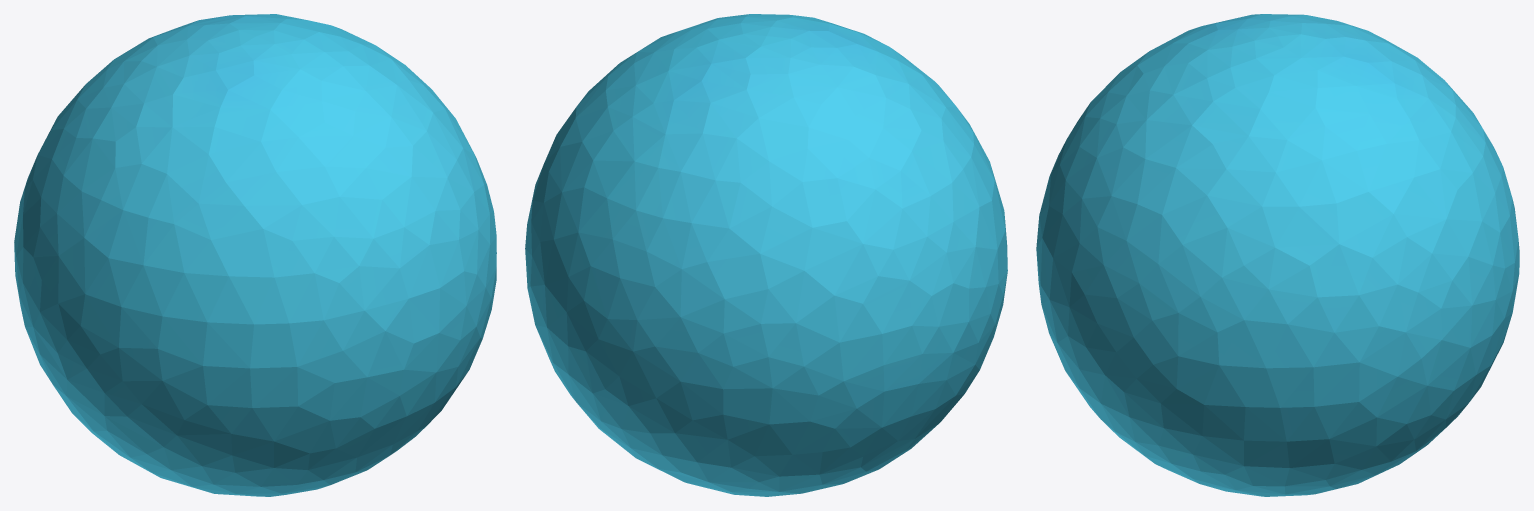
The picture shows the model from 3 angles, left to right: view 1: azimuth 30°, elevation 25°; view 2: azimuth 150°, elevation 25°; view 3: azimuth 270°, elevation 25°; orthographic projection.
Parts seen in each view (by area): view 1: Sphere; view 2: Sphere; view 3: Sphere.
Boxes of the visible parts, x1,y1,x2,y2 form: Sphere: (14, 14, 496, 496); Sphere: (525, 14, 1007, 496); Sphere: (1036, 14, 1519, 496).
Size of the model in its own units: 2 by 2 by 2.
